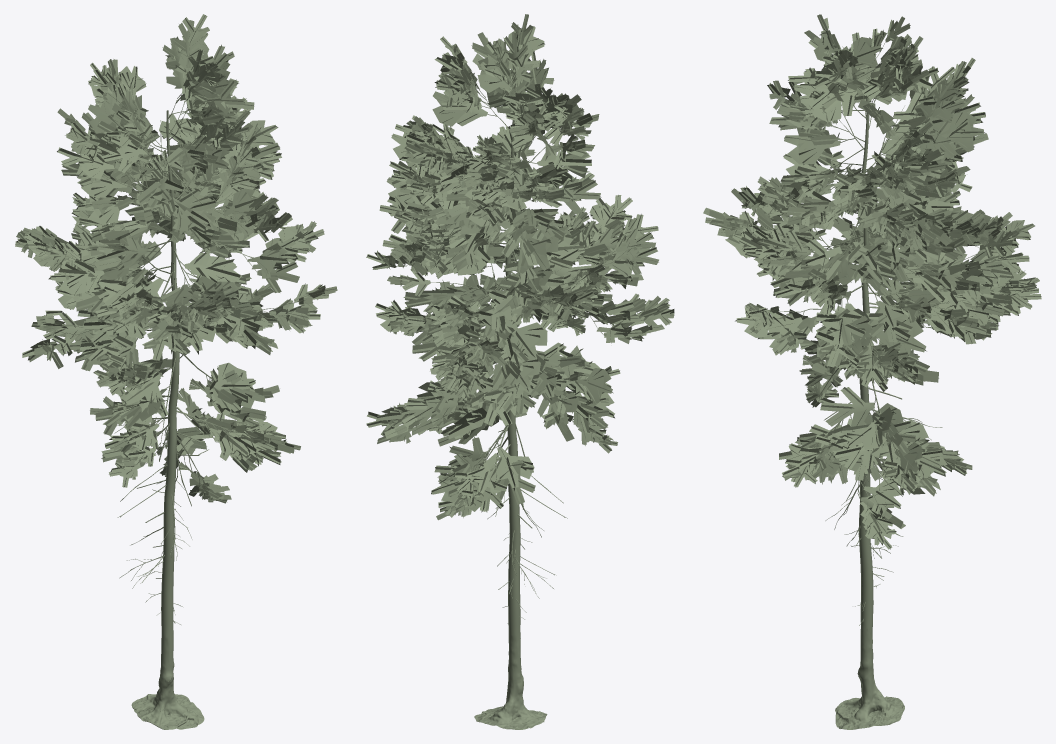
The model's file is fir_tree_01_b_LOD2.glb.
3 views of the same model, side by side, from view 1: azimuth 30°, elevation 25°; view 2: azimuth 150°, elevation 25°; view 3: azimuth 270°, elevation 25° (orthographic). The views are drawn at different scales.
Parts seen in each view (by area): view 1: fir_tree_01_b_LOD2; view 2: fir_tree_01_b_LOD2; view 3: fir_tree_01_b_LOD2.
Part boxes in pixels (x1,y1,x2,y2): fir_tree_01_b_LOD2: (15,14,337,729); fir_tree_01_b_LOD2: (366,14,674,729); fir_tree_01_b_LOD2: (703,14,1041,729).
Size of the model in its own units: 5.63 by 14.08 by 6.08.
